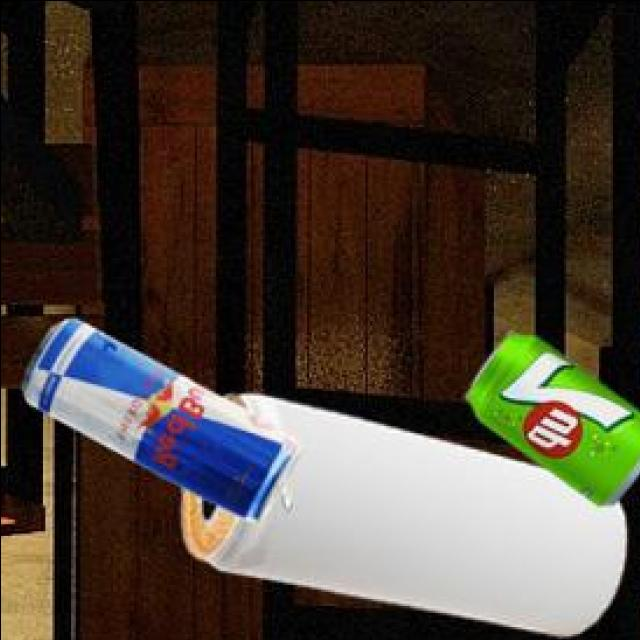logam: (179, 398, 622, 639), (18, 321, 298, 527), (461, 333, 640, 508)
